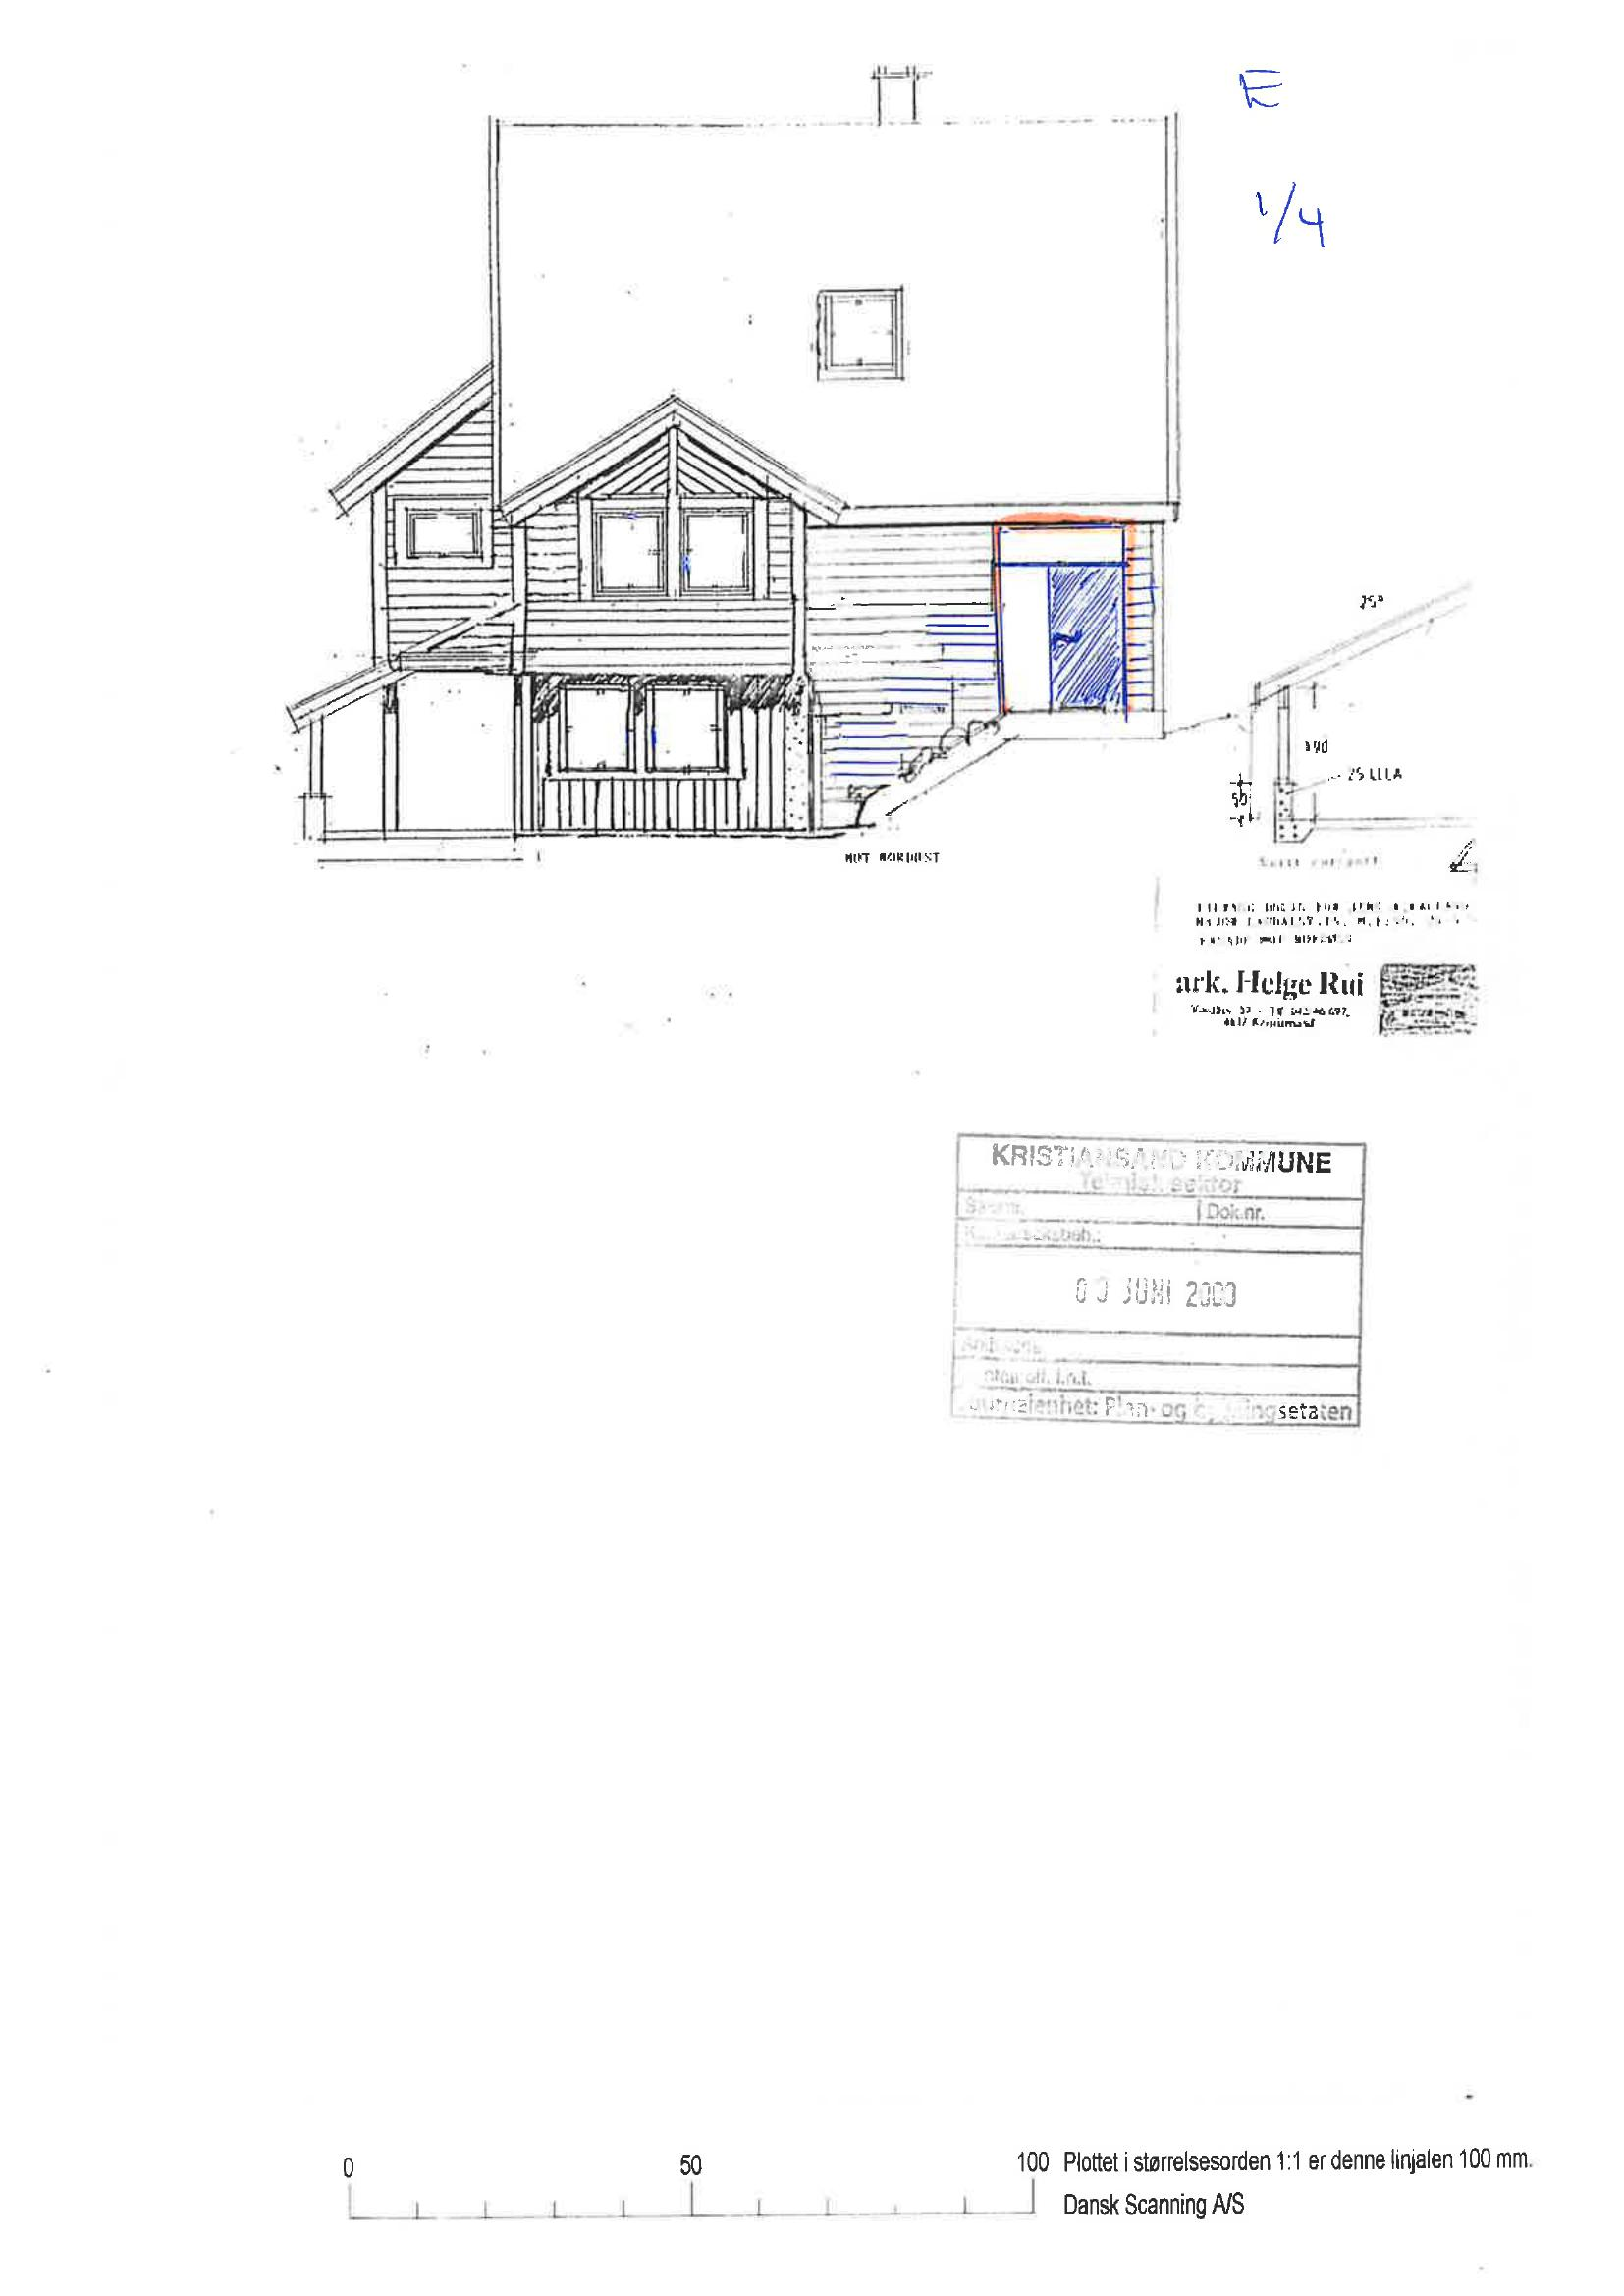fasade: (308, 58, 1183, 876)
